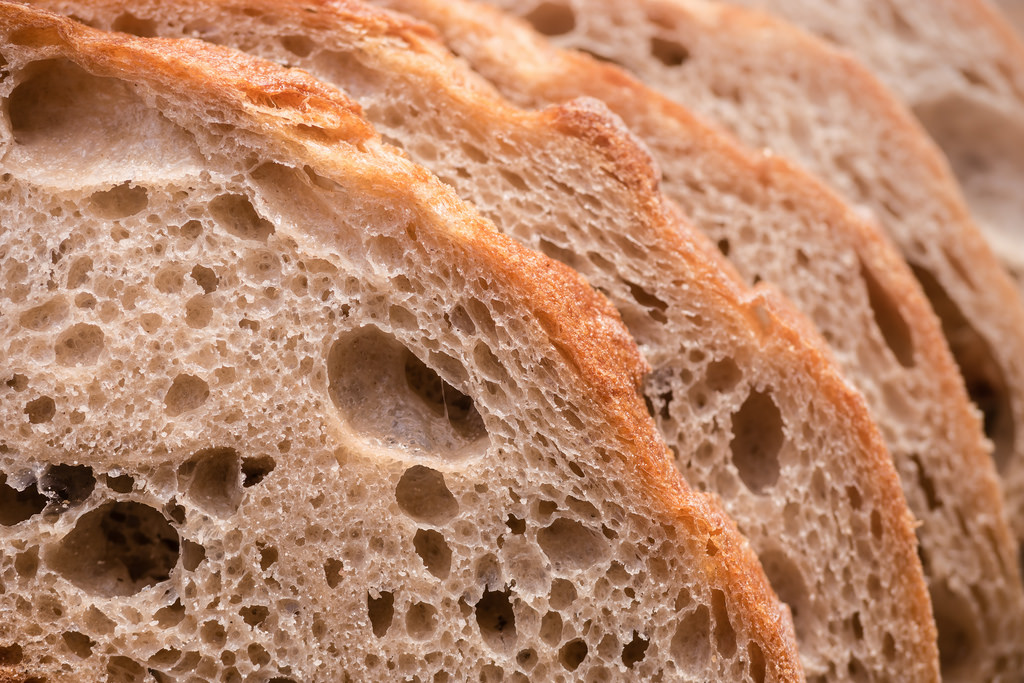slice of bread: (29, 28, 897, 683)
